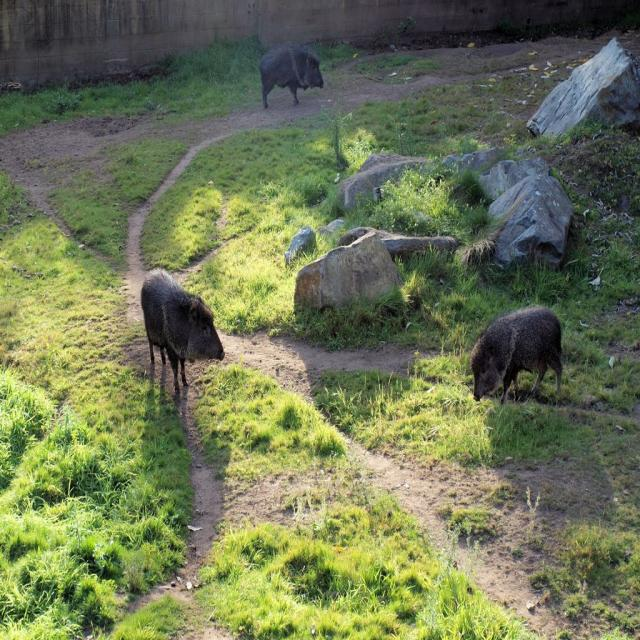Pig: (140, 265, 226, 393), (471, 303, 562, 406), (260, 43, 324, 108)
